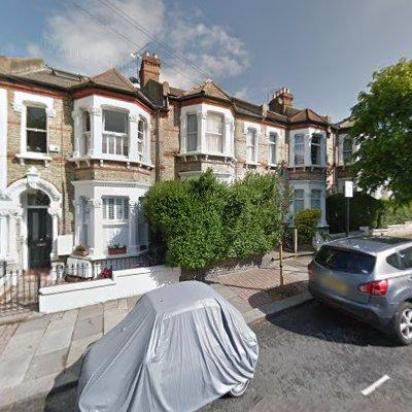stationary-car-onstreet: (76, 278, 260, 412), (306, 232, 412, 344)
